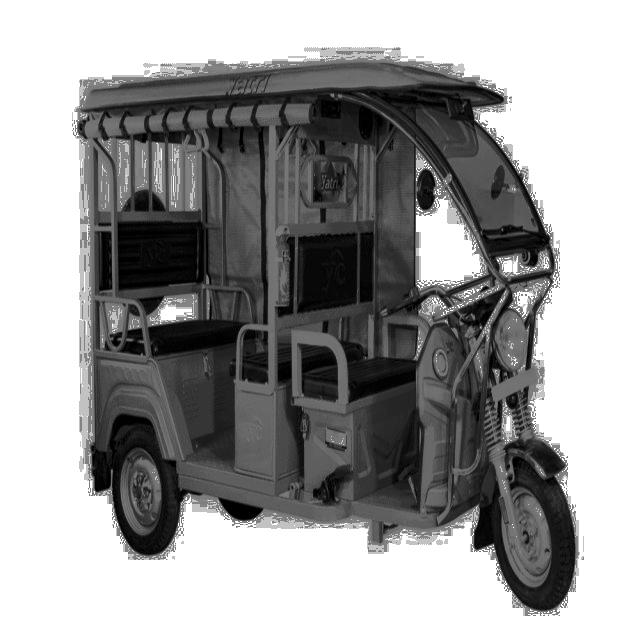Toto: (76, 53, 581, 614)
